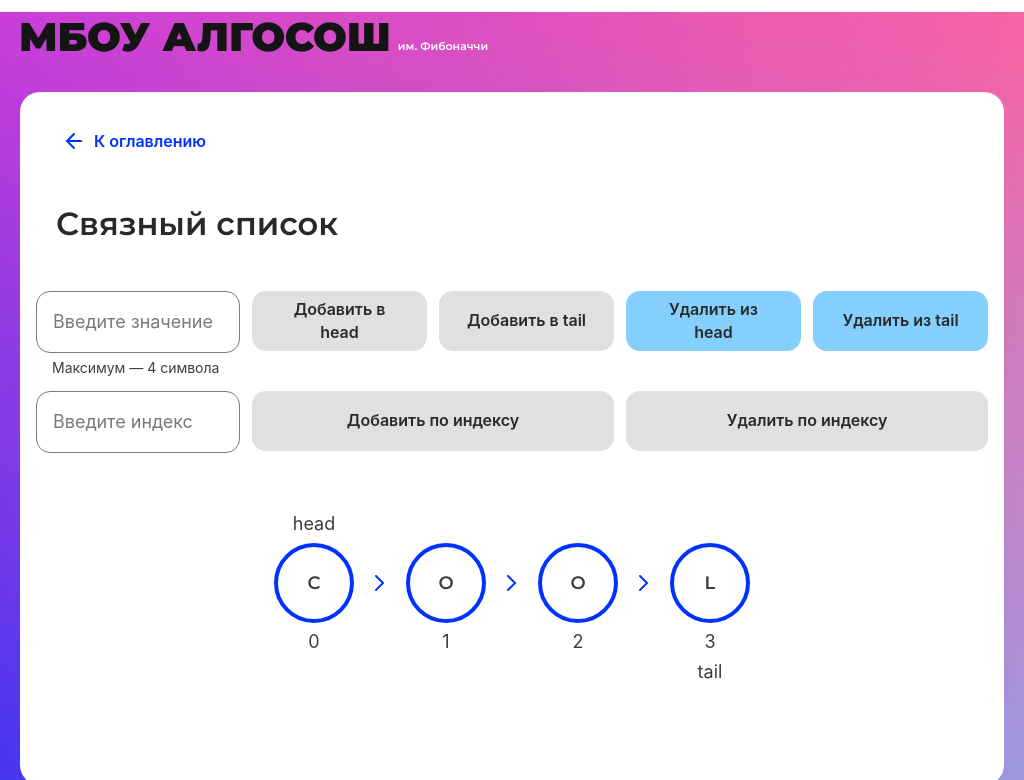
лист › добавляется по индексу
Type "fg" into the field with test id "input-value" at (138, 322), box top-left (36, 291), bottom-right (240, 353)
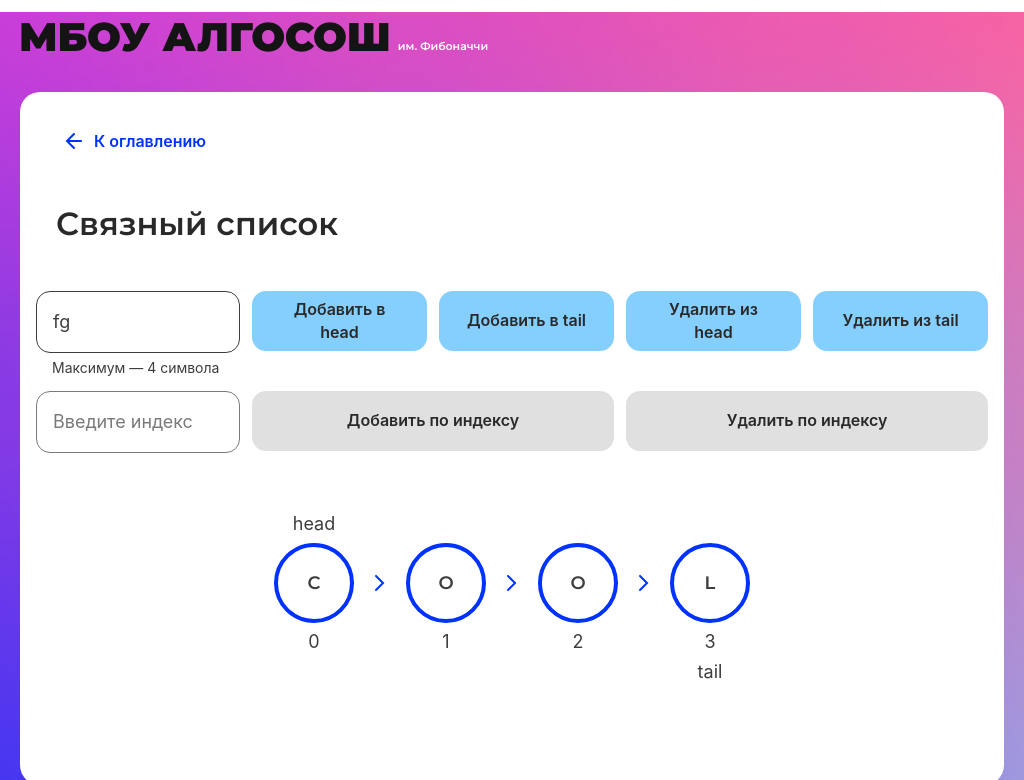
Type "2" into the number field with test id "input-index" at (138, 422), box top-left (36, 391), bottom-right (240, 453)
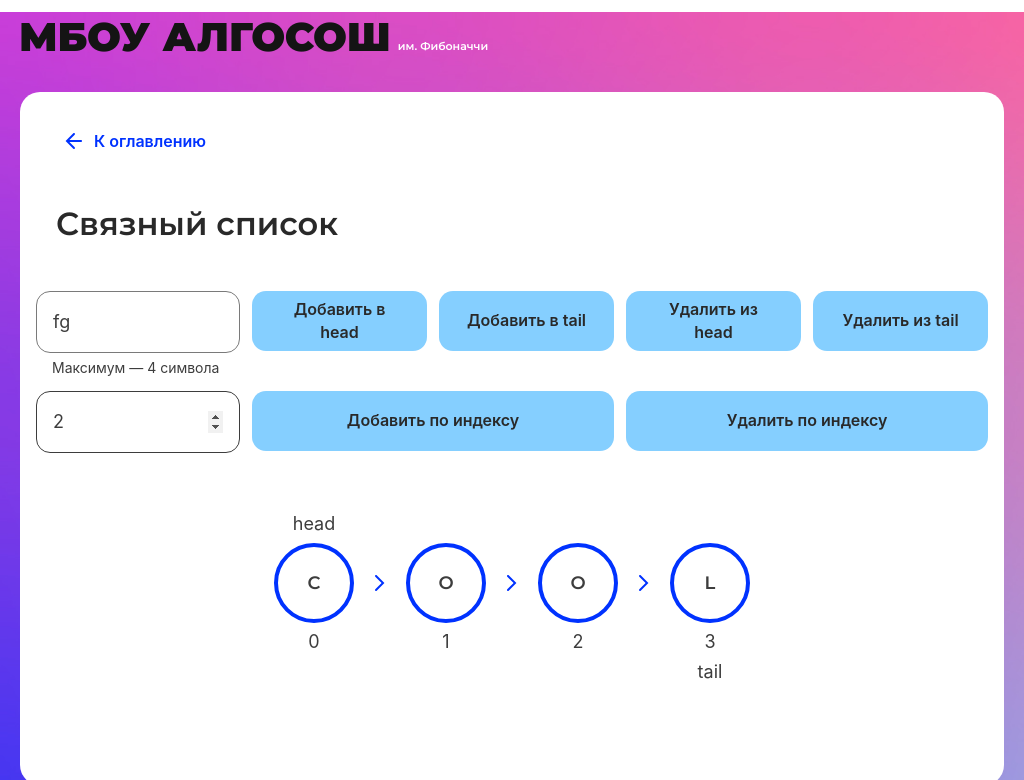
Expected: the element with test id "button-list-addIndex" is enabled
Click the button with test id "button-list-addIndex" at (433, 421), box top-left (252, 391), bottom-right (614, 451)
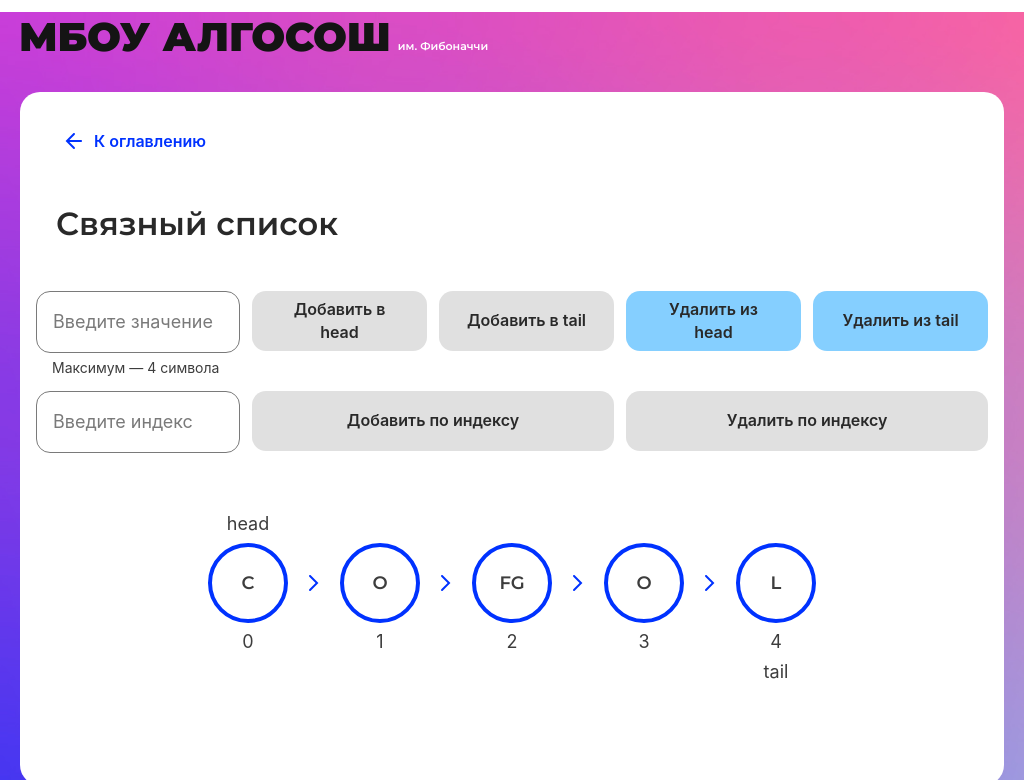
Now the field with test id "input-value" is empty, box top-left (36, 291), bottom-right (240, 353)
Now the number field with test id "input-index" is empty, box top-left (36, 391), bottom-right (240, 453)
Now the text with test id "circle-content" reads "fg", box top-left (499, 572), bottom-right (524, 594)
